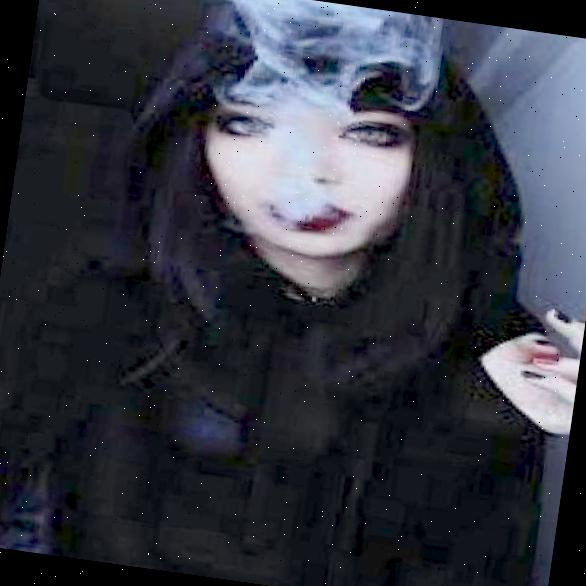smoke: (180, 0, 452, 234)
